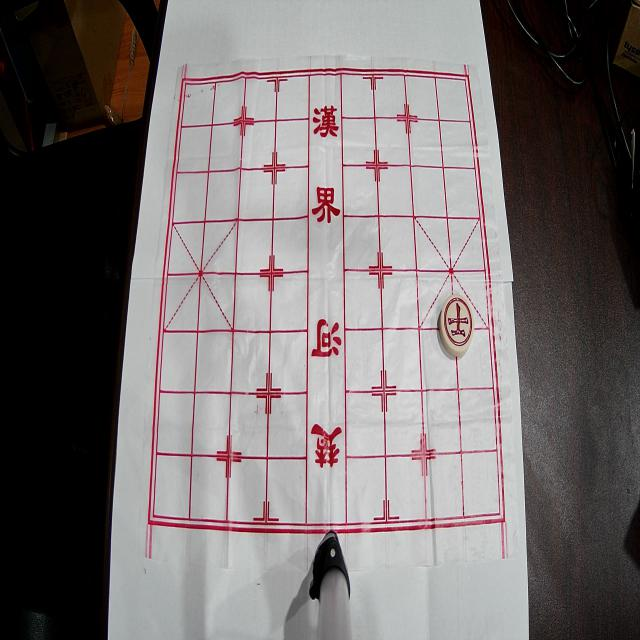red-guard: (439, 294, 474, 357)
